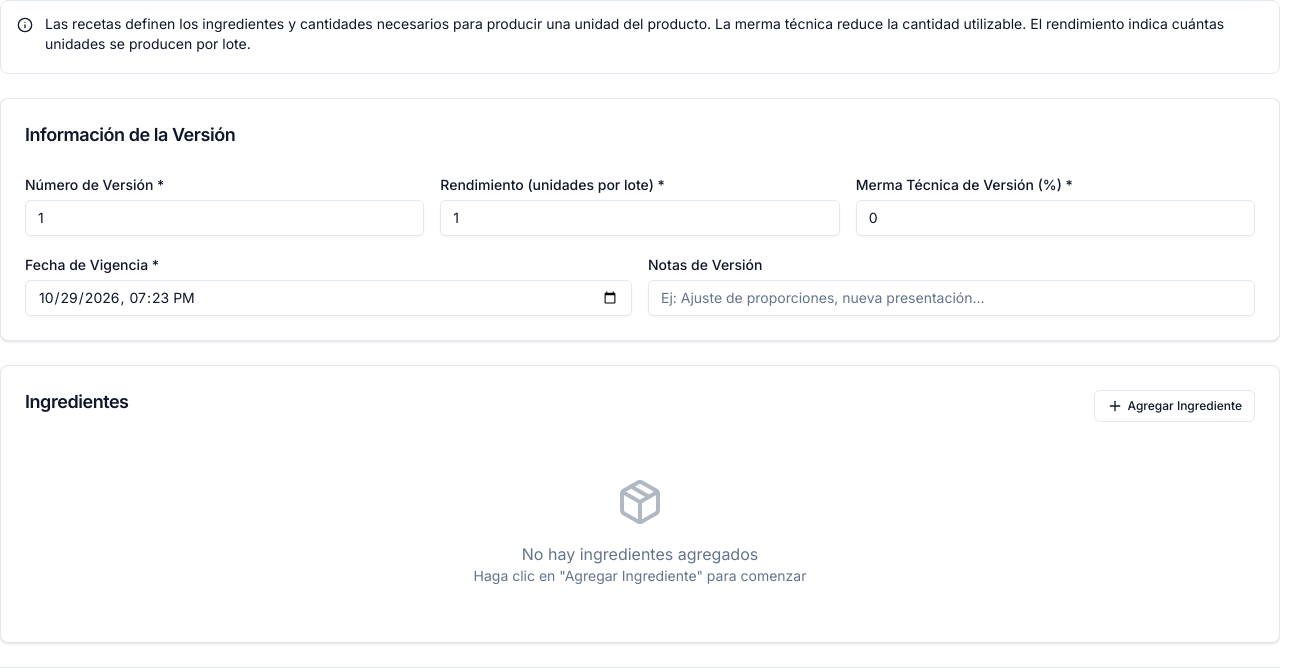
RecipeForm componentes: Tipo, ingrediente y UOM (R15 / S12) › elegir una sub-receta en la lista refleja Tipo = Sub-receta (síntoma 4)
This screenshot has width=1292, height=668.
Step 1. Click the button "Agregar Ingrediente" → (1175, 406), box [1094,390,1255,422]
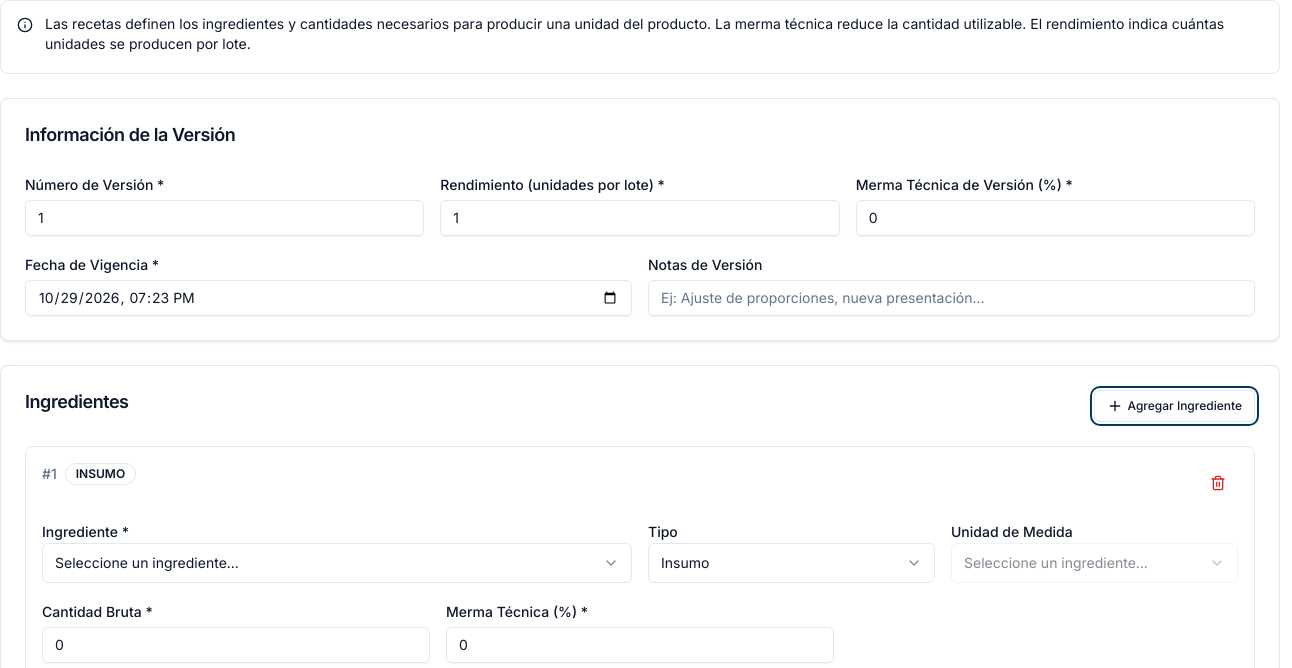
Step 2. Click the dropdown labelled "Seleccione un ingrediente..." below "Ingrediente *" → (147, 562), box [42,543,632,583]
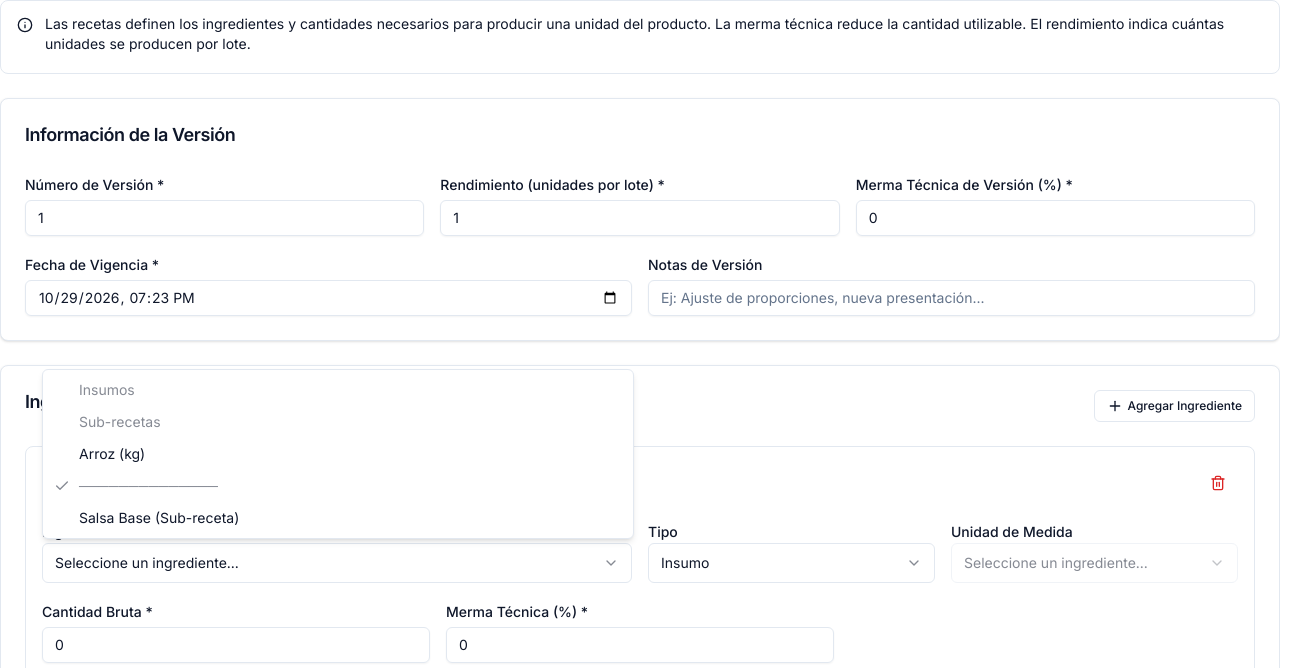
Step 3. Click the option "Salsa Base (Sub-receta)" → (159, 518), box [79,509,239,526]
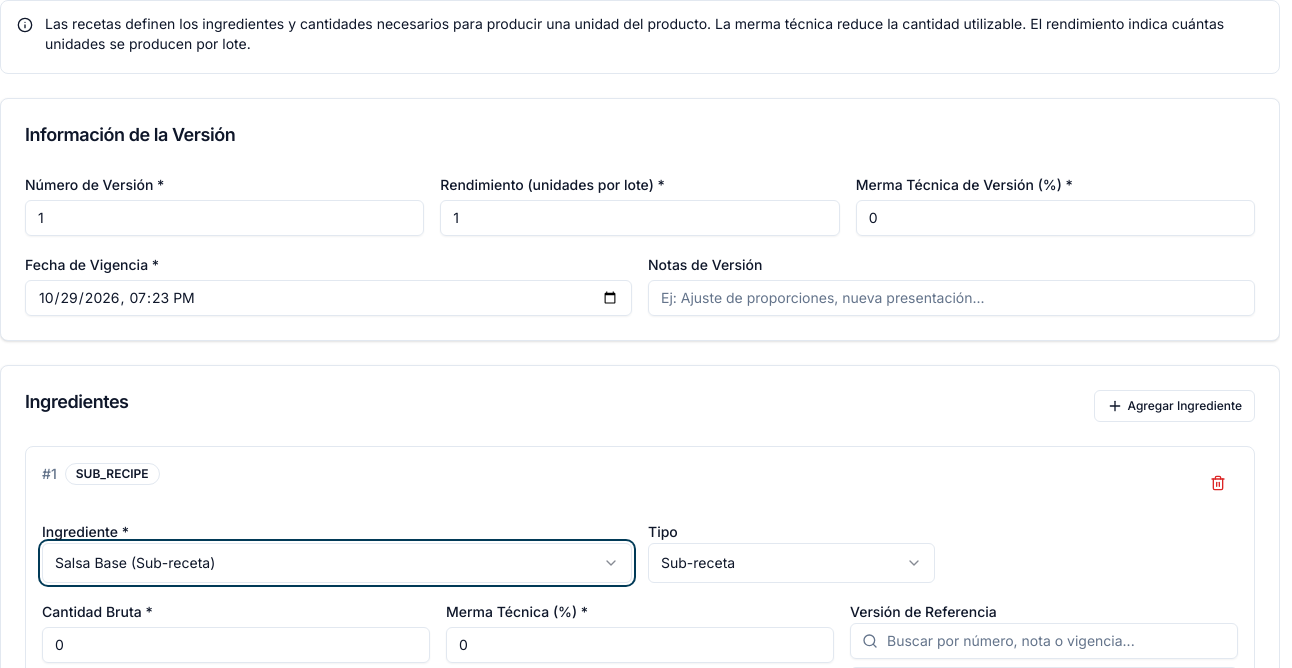
Expected: the dropdown named "Tipo" reads "Sub-receta", [648,543,935,583]
Expected: the label "Unidad de Medida" is gone
